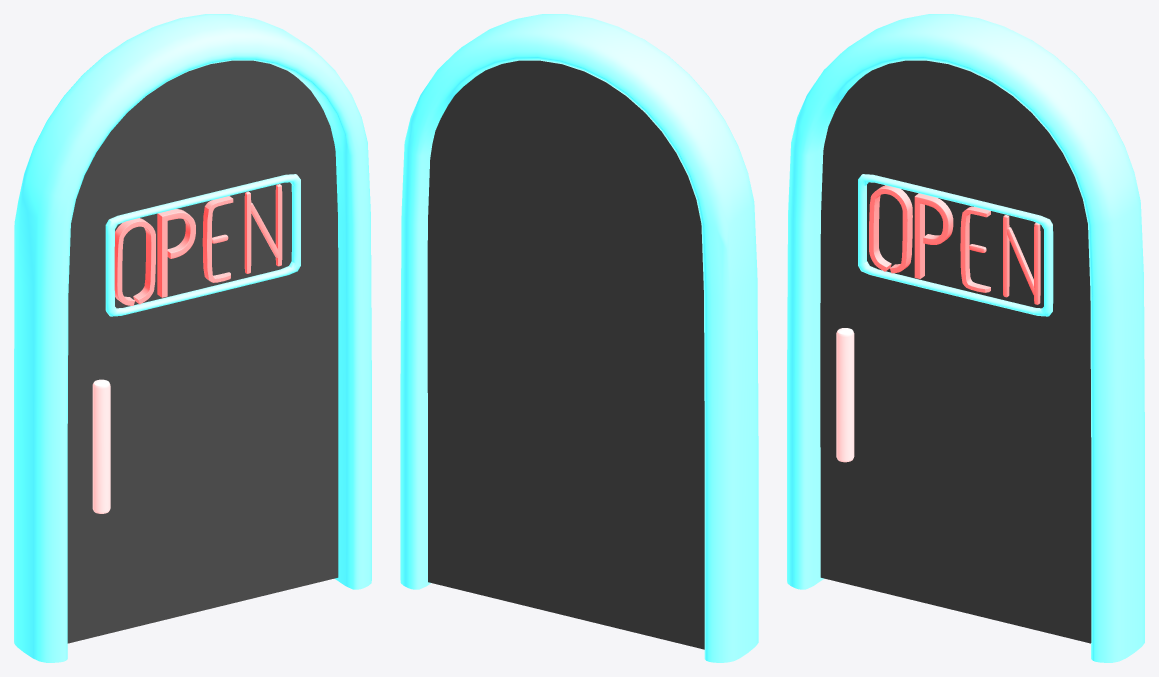
File: Sytn Puerta.fbx
The picture shows the model from 3 angles, left to right: view 1: azimuth 30°, elevation 25°; view 2: azimuth 150°, elevation 25°; view 3: azimuth 330°, elevation 25°; orthographic projection.
Visible parts, largest first — view 1: Puerta, Marco_puerta, Open1, pCube2, pCylinder2; view 2: Puerta, Marco_puerta; view 3: Puerta, Marco_puerta, Open1, pCube2, pCylinder2.
Boxes of the visible parts, x1,y1,x2,y2 form: Puerta: (67,60,338,643); Marco_puerta: (14,14,371,662); Open1: (114,184,282,305); pCube2: (105,174,300,316); pCylinder2: (92,379,110,513); Puerta: (427,60,704,649); Marco_puerta: (400,14,758,662); Puerta: (820,60,1091,643); Marco_puerta: (787,14,1144,662); Open1: (869,185,1040,304); pCube2: (858,174,1053,316); pCylinder2: (836,328,854,462).
Bounding box in the file's own units: 81.44 × 135 × 15.98.
